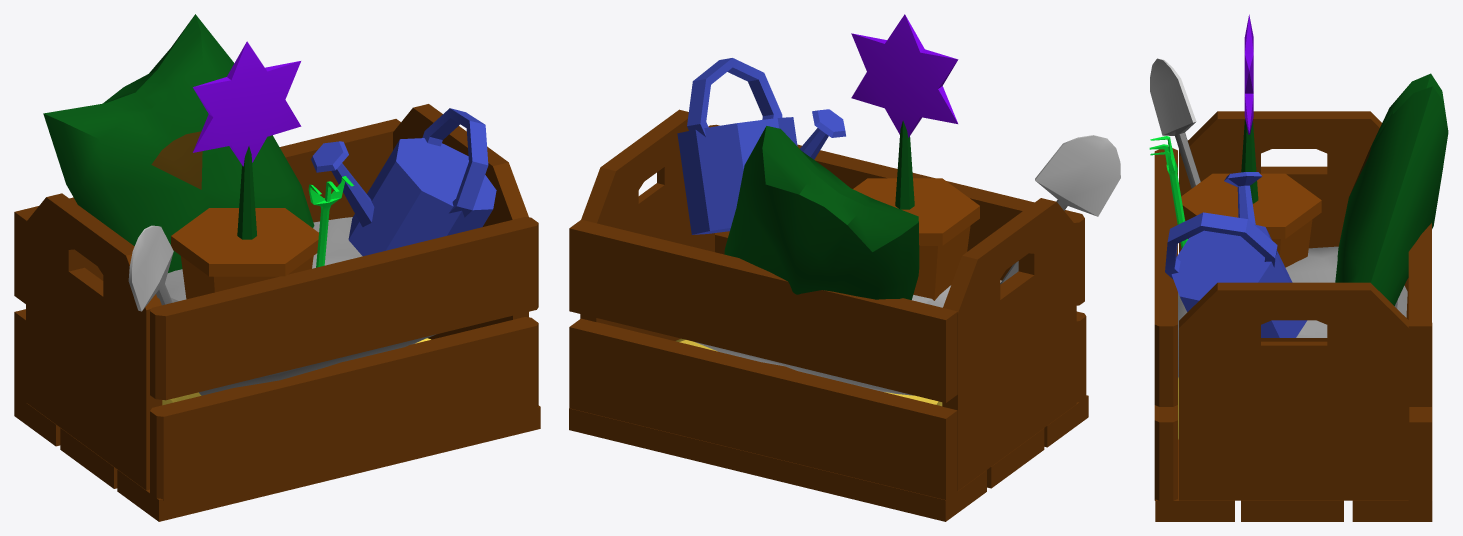
File: CaixoteFerramentas.fbx
The picture shows the model from 3 angles, left to right: view 1: azimuth 30°, elevation 25°; view 2: azimuth 150°, elevation 25°; view 3: azimuth 270°, elevation 25°; orthographic projection. The views are drawn at different scales.
Visible parts, largest first — view 1: CaixoteFerramentas; view 2: CaixoteFerramentas; view 3: CaixoteFerramentas.
Boxes of the visible parts, x1,y1,x2,y2 form: CaixoteFerramentas: (14,14,540,521); CaixoteFerramentas: (569,14,1120,521); CaixoteFerramentas: (1149,14,1448,521).
Bounding box in the file's own units: 24.28 × 23.05 × 15.87.
1 material, 1 textured.
